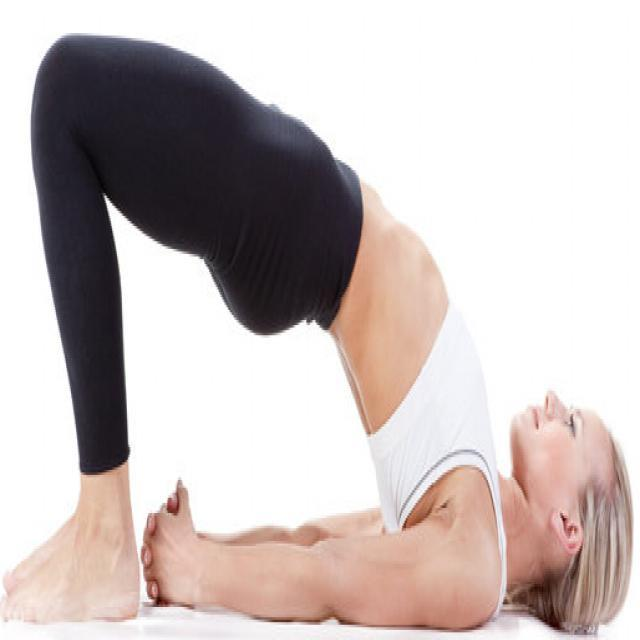yoga-pose bridge: (12, 23, 624, 632)
